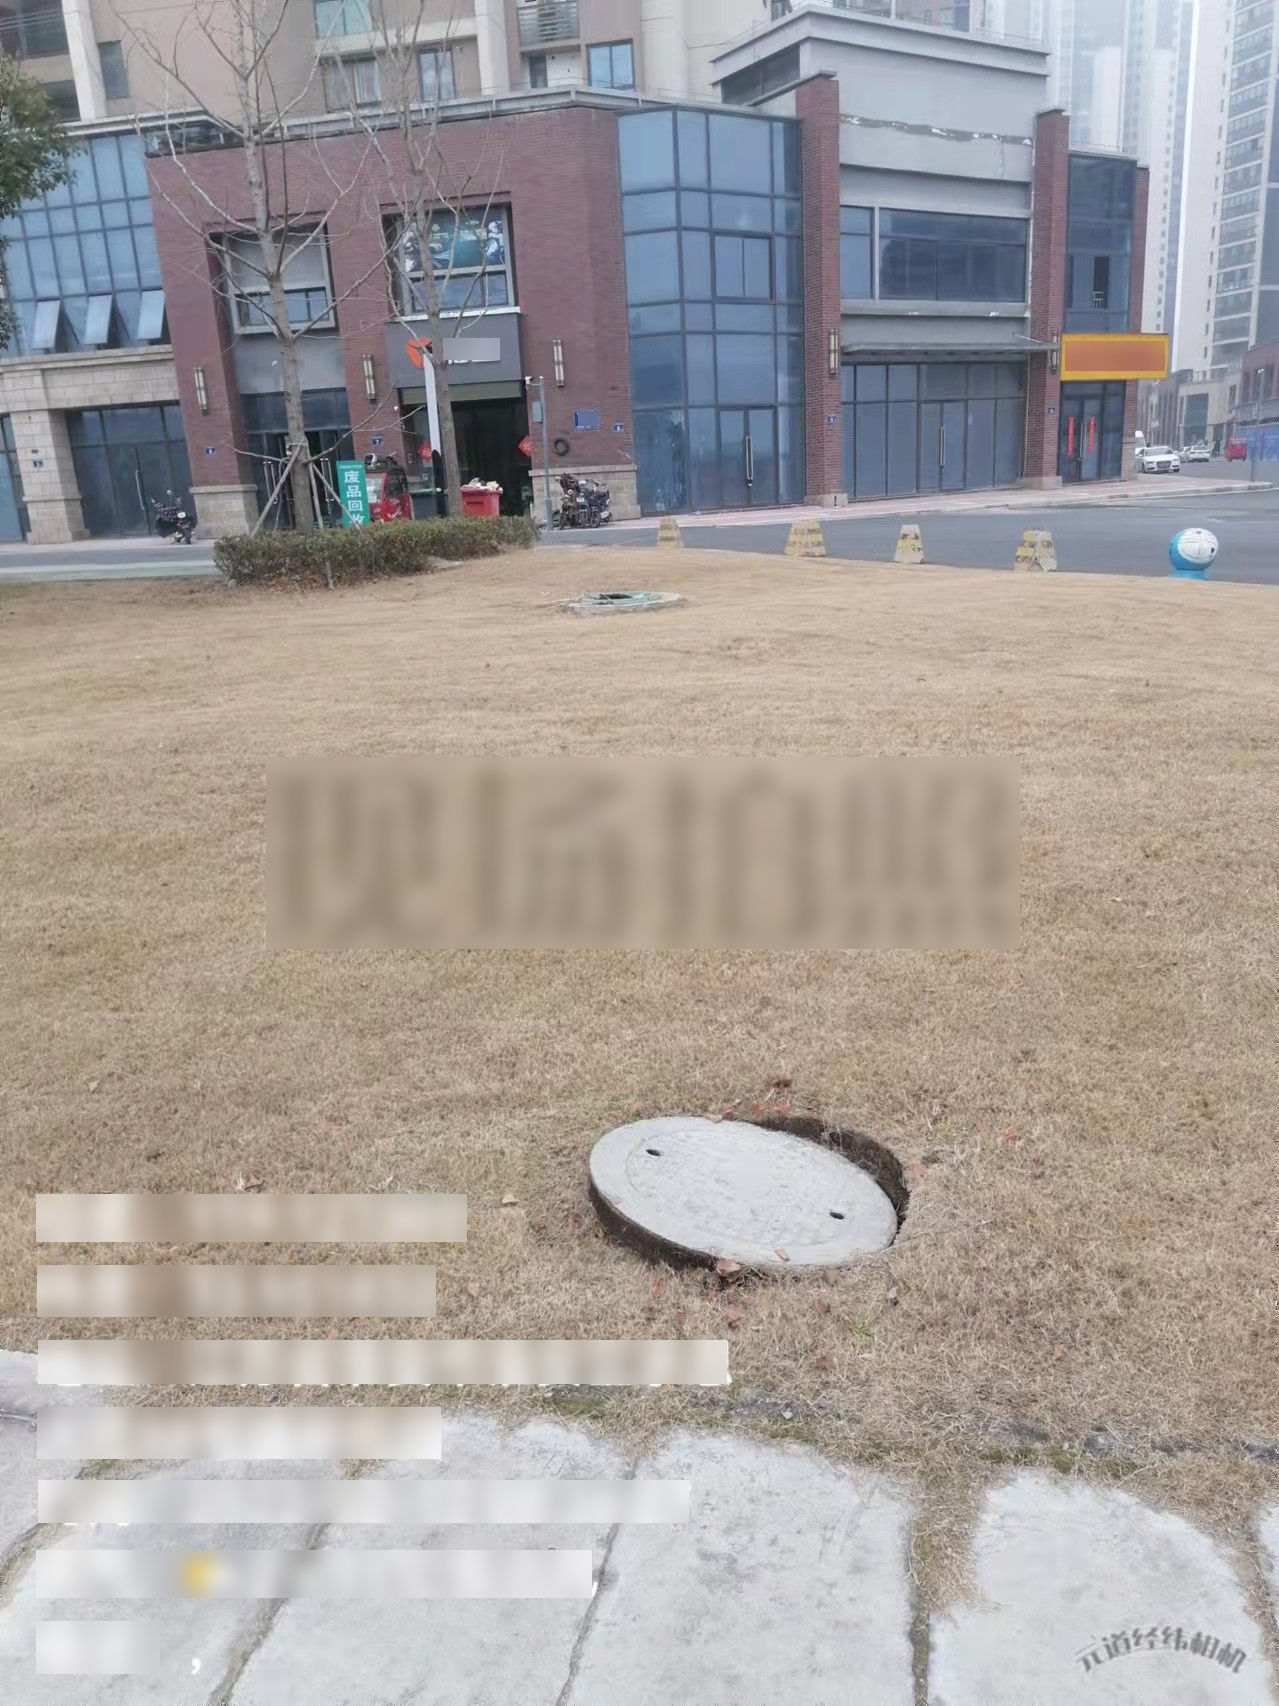uncovered: (586, 1114, 910, 1272)
